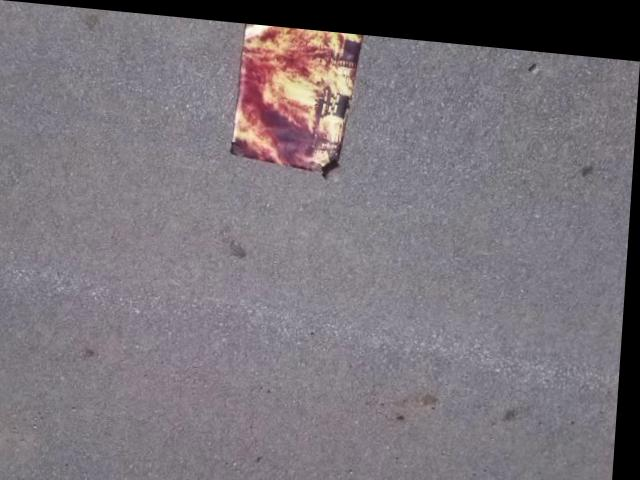fire-poster: (228, 19, 367, 175)
